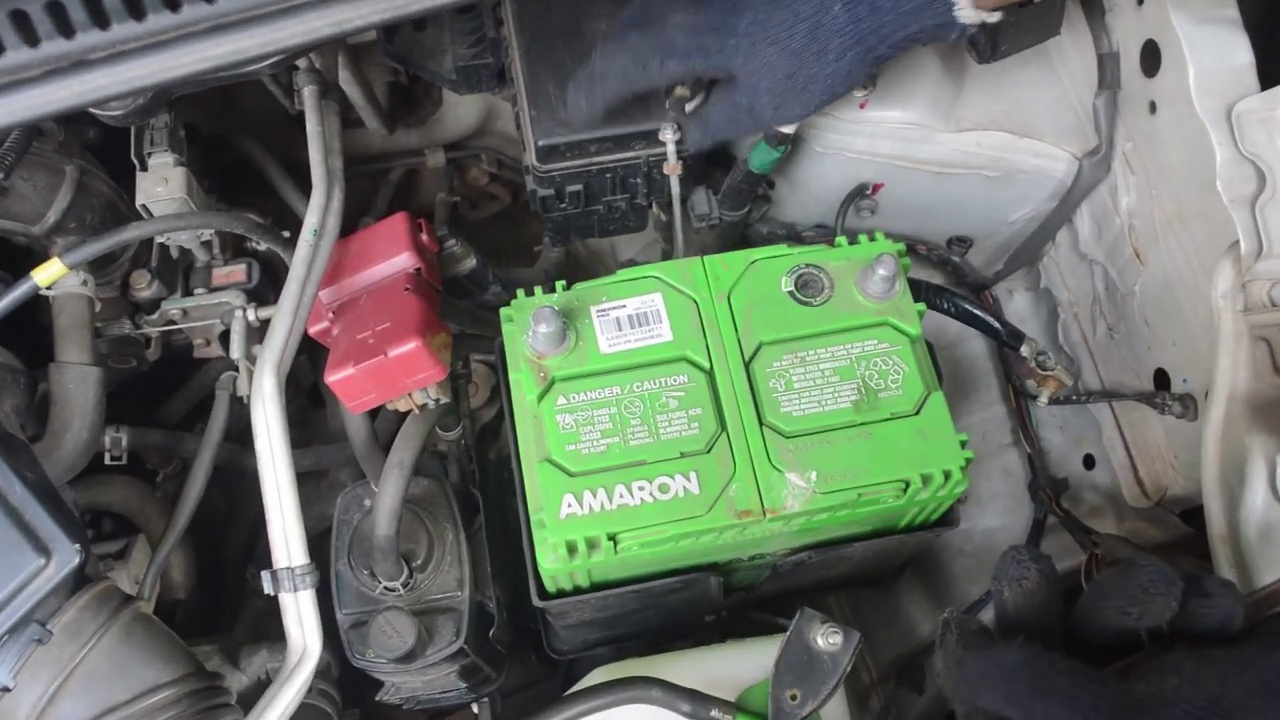battery: (497, 237, 962, 542)
neg_disconnected: (834, 226, 932, 318)
pos_disconnected: (330, 208, 572, 392)
